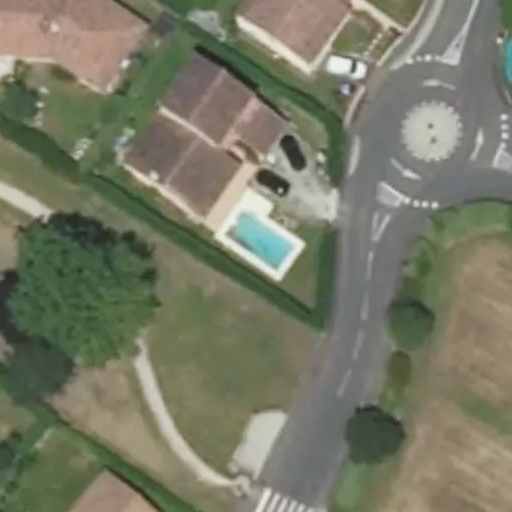pool: (221, 236, 290, 247)
